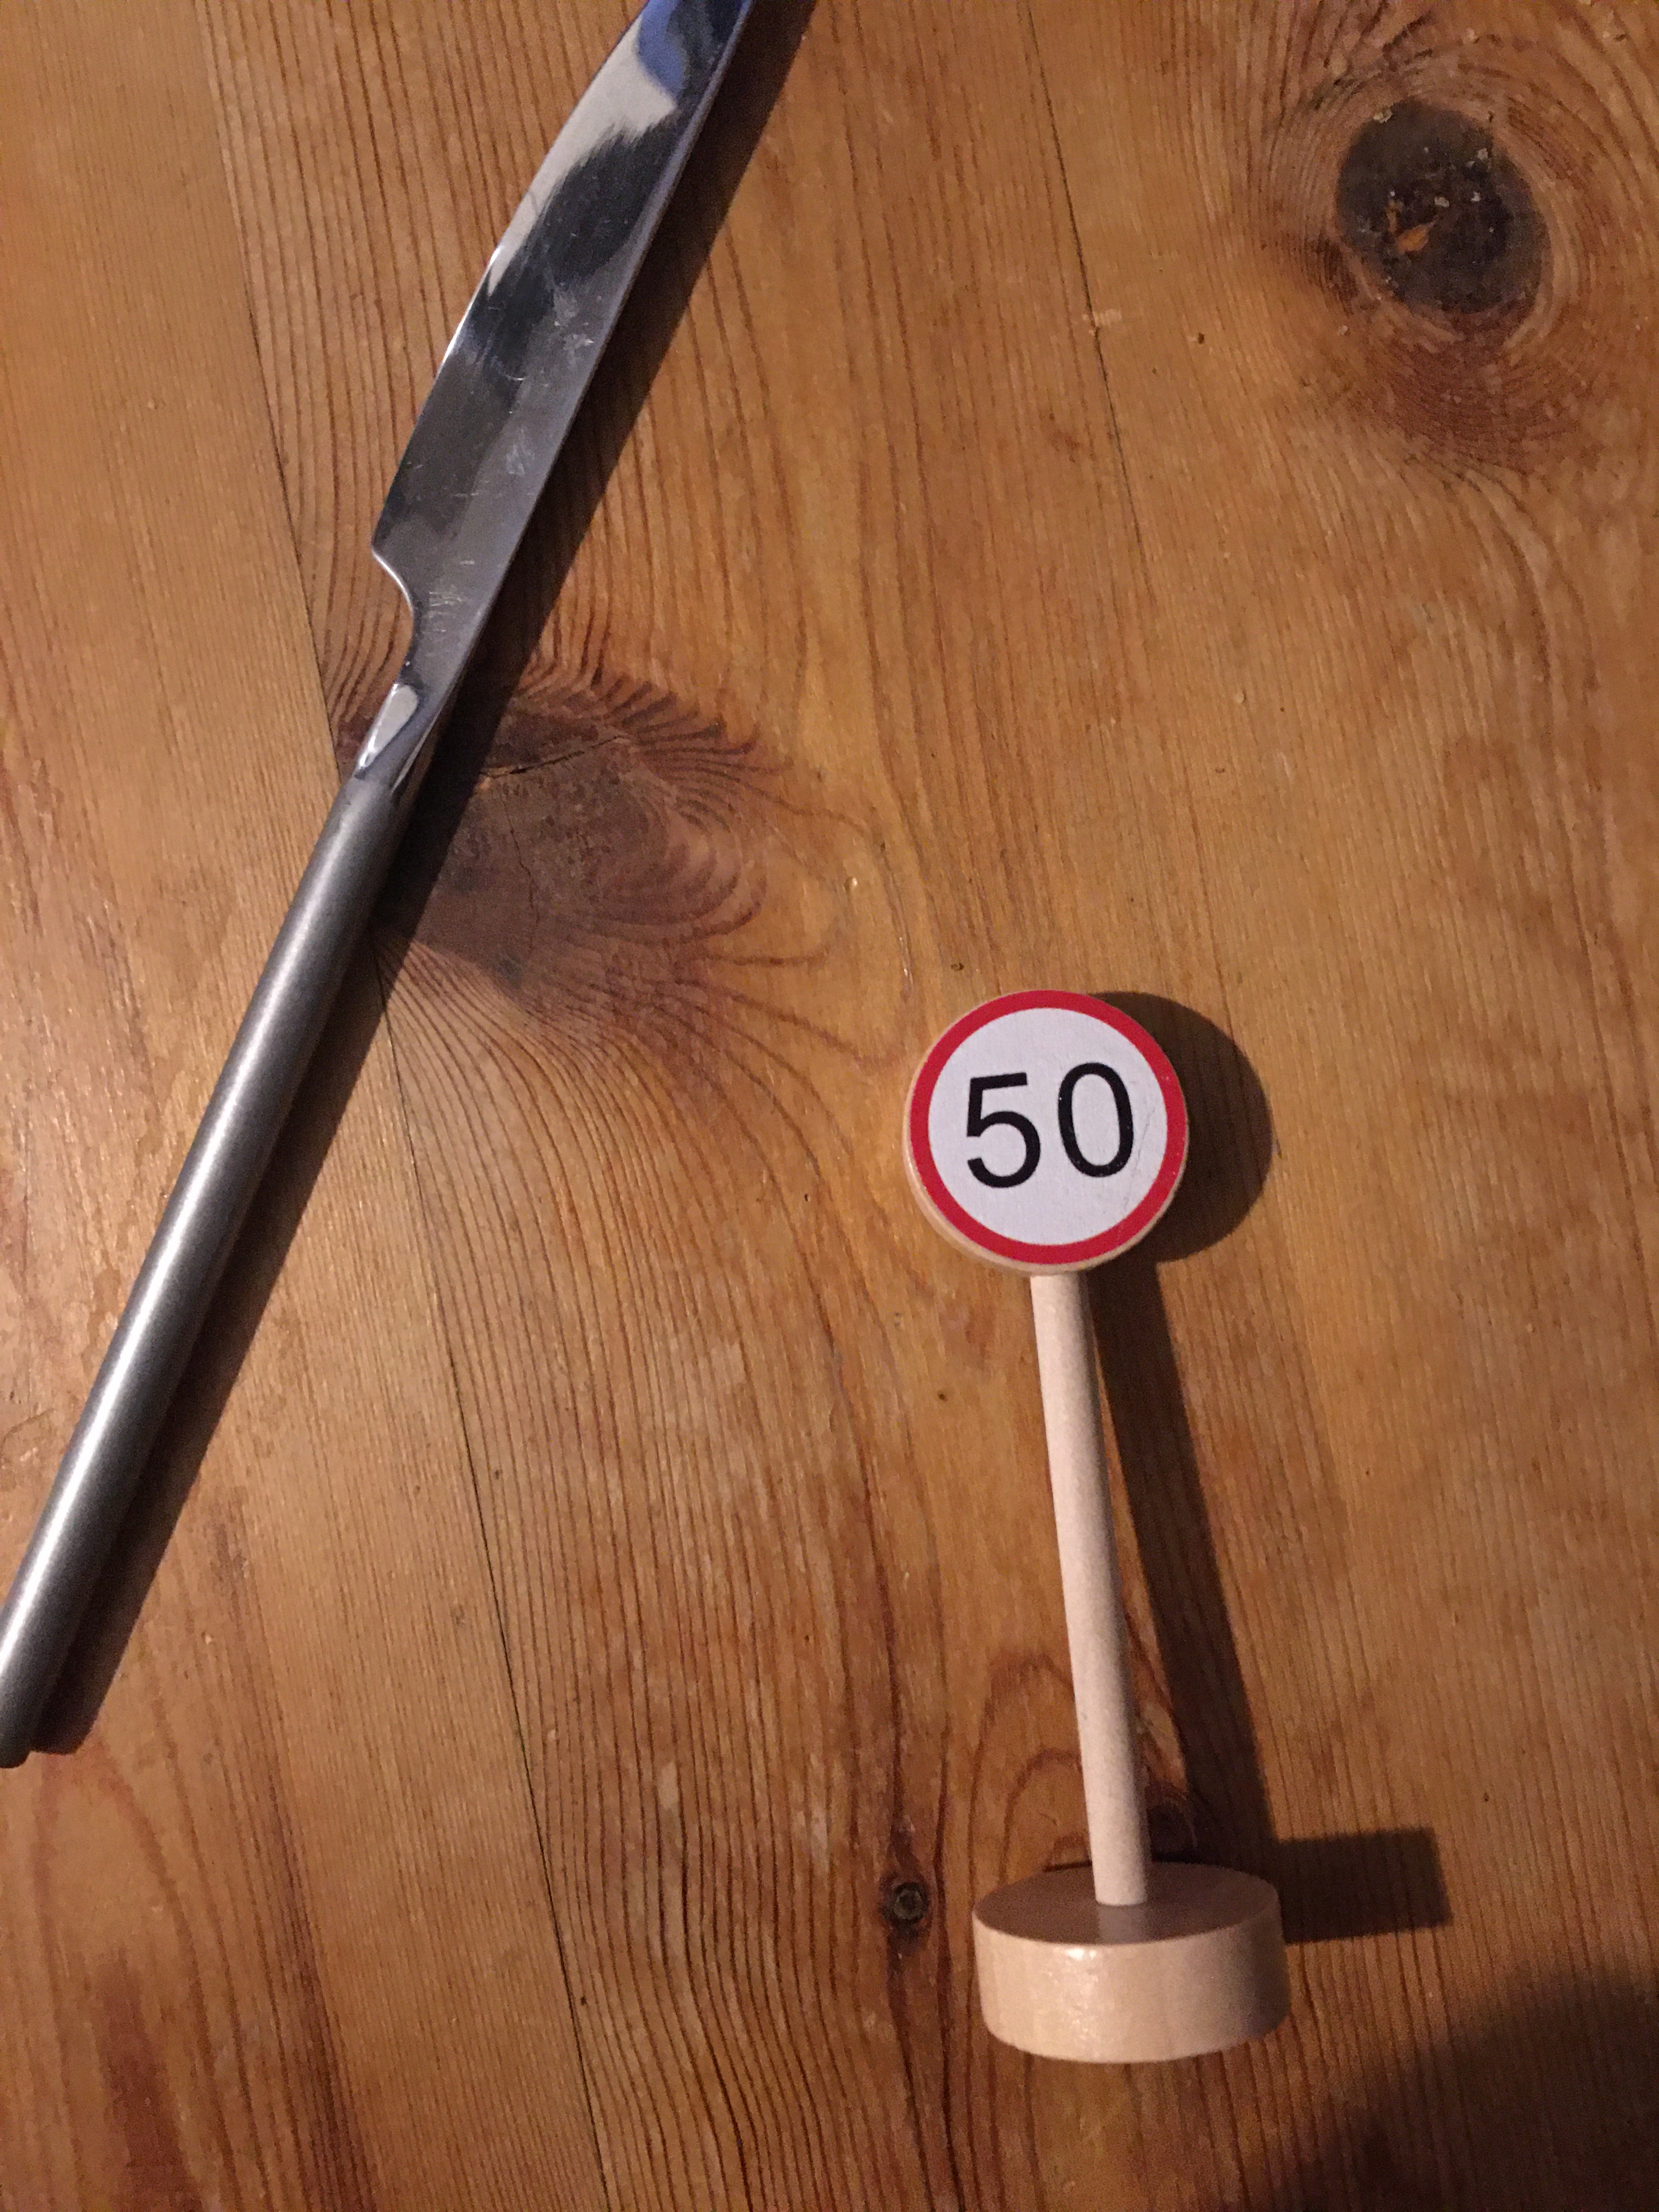Traffic_Sign_50: (910, 982, 1187, 1277)
